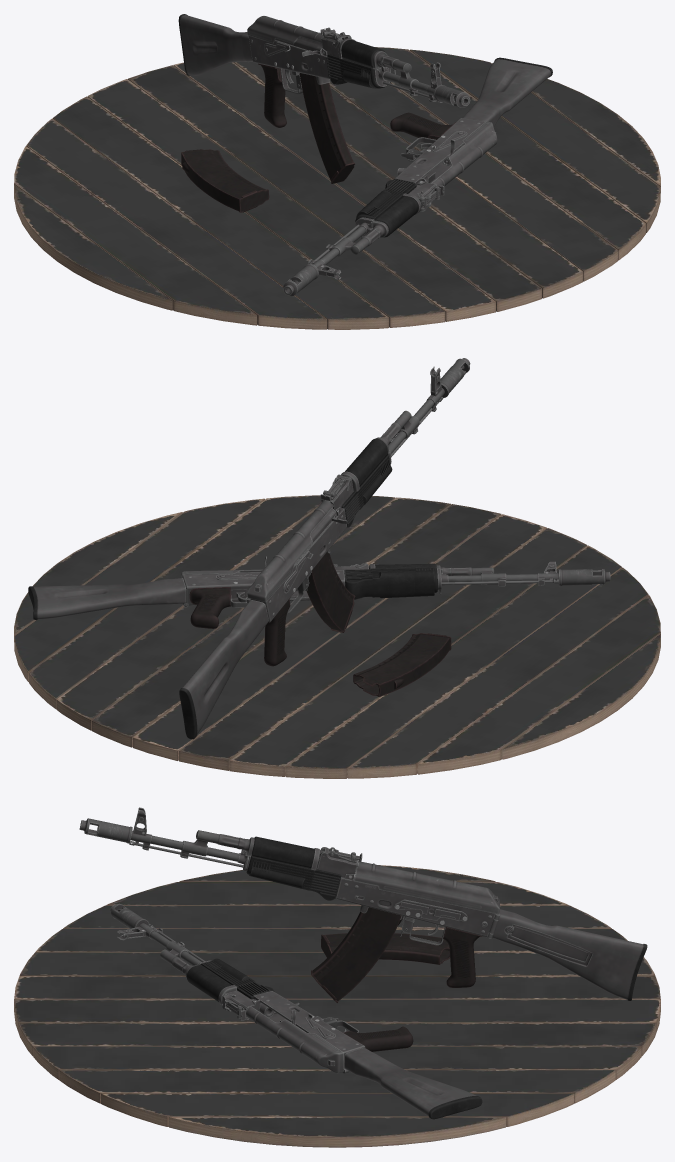
3 renders of one model, top to bottom at view 1: azimuth 30°, elevation 25°; view 2: azimuth 150°, elevation 25°; view 3: azimuth 270°, elevation 25°, orthographic.
Parts seen in each view (by area): view 1: platform_plank, handle_low.001, handle_low, stock_low, stock_low.001, mag_low.001, mag_low; view 2: platform_plank, handle_low, handle_low.001, stock_low, stock_low.001, mag_low.001, mag_low; view 3: platform_plank, handle_low, handle_low.001, stock_low, mag_low, stock_low.001, mag_low.001.
Boxes of the visible parts, x1=… form: platform_plank: x1=14, y1=47, x2=660, y2=329; handle_low.001: x1=283, y1=112, x2=497, y2=296; handle_low: x1=247, y1=16, x2=470, y2=127; stock_low: x1=178, y1=14, x2=252, y2=76; stock_low.001: x1=463, y1=57, x2=552, y2=127; mag_low.001: x1=181, y1=149, x2=269, y2=212; mag_low: x1=299, y1=73, x2=354, y2=183; platform_plank: x1=14, y1=495, x2=660, y2=778; handle_low: x1=247, y1=358, x2=470, y2=666; handle_low.001: x1=181, y1=561, x2=610, y2=628; stock_low: x1=179, y1=597, x2=268, y2=739; stock_low.001: x1=28, y1=578, x2=188, y2=619; mag_low.001: x1=353, y1=633, x2=451, y2=696; mag_low: x1=299, y1=552, x2=355, y2=632; platform_plank: x1=14, y1=865, x2=660, y2=1147; handle_low: x1=79, y1=807, x2=499, y2=987; handle_low.001: x1=110, y1=903, x2=413, y2=1073; stock_low: x1=487, y1=909, x2=647, y2=1000; mag_low: x1=311, y1=907, x2=402, y2=1002; stock_low.001: x1=342, y1=1047, x2=482, y2=1119; mag_low.001: x1=321, y1=933, x2=449, y2=964.
Size of the model in its own units: 1.05 by 0.3627 by 1.05.
2 materials, 2 textured.
